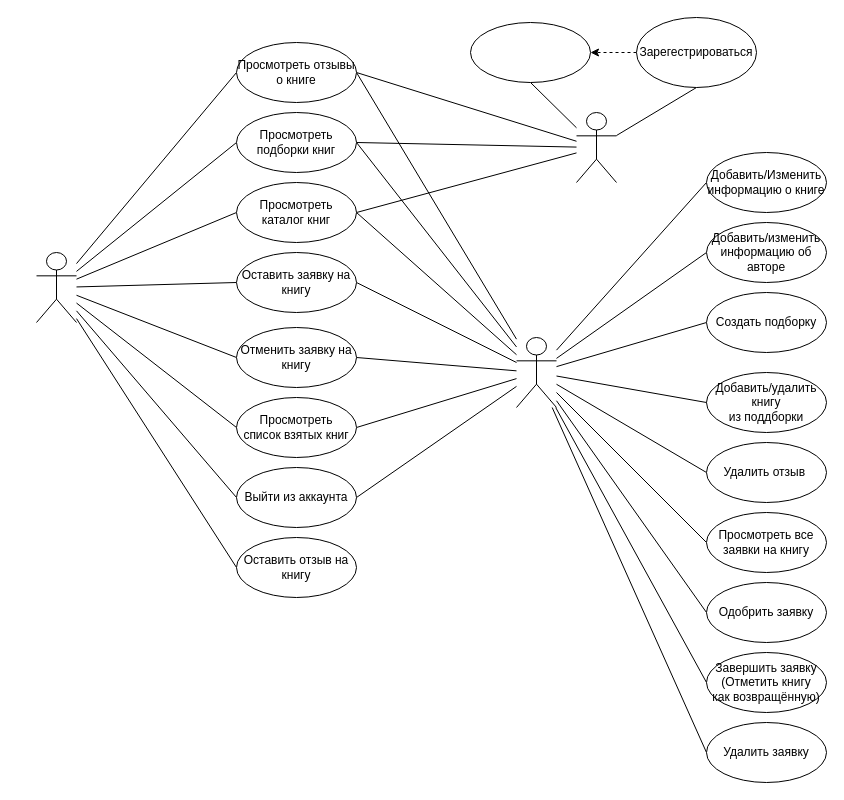
The diagram is 844 pixels wide and 800 high, and some of its shapes have lost their labels. Here are the shapes that lost their labels. From the top down, the centre of each, then its label:
At (x=530, y=52): "Авторизоваться".
At (x=596, y=147): "Гость (Неавторизованный)".
At (x=56, y=287): "Пользователь (посетитель)".
At (x=536, y=372): "Администратор (библиотекарь)".
